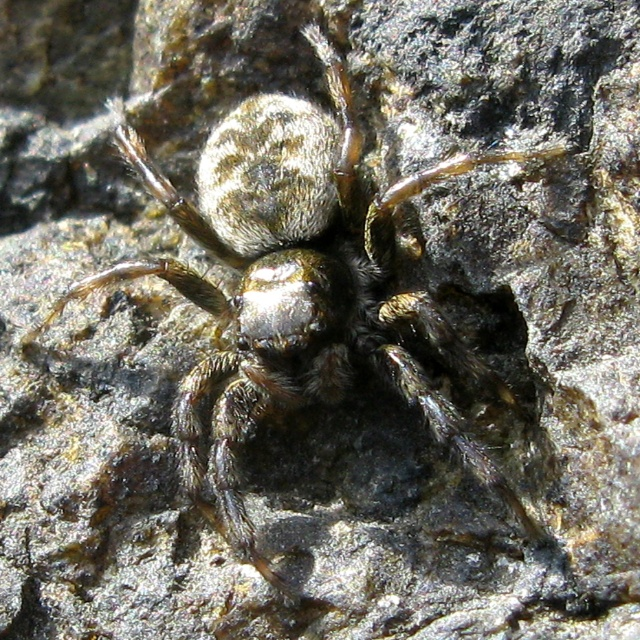Spider: (13, 18, 568, 608)
